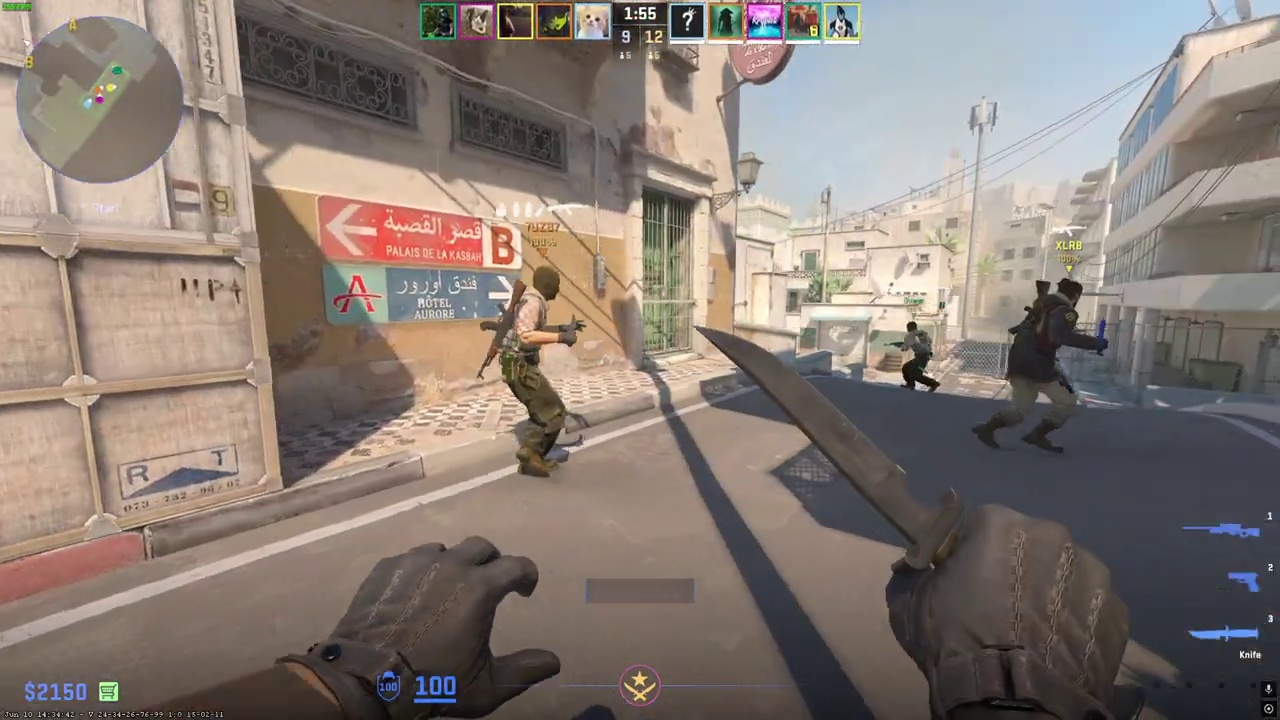Terrorist: (992, 276, 1091, 458), (498, 267, 573, 477), (898, 322, 937, 391)
